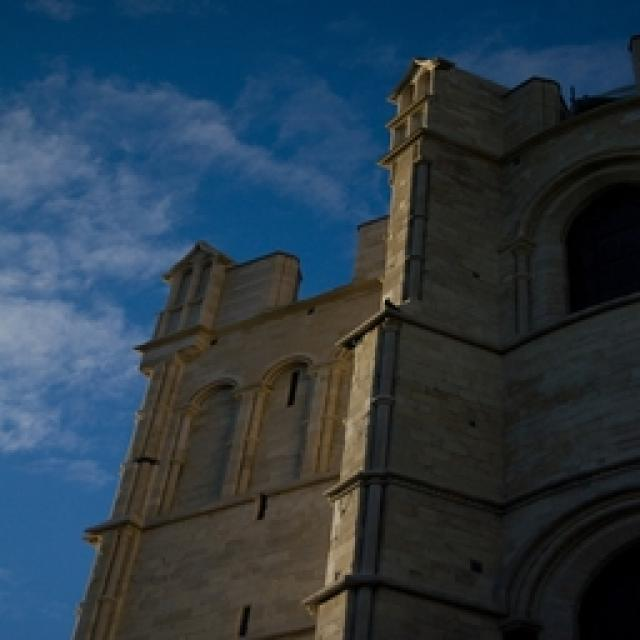Abbey: (331, 82, 627, 640)
